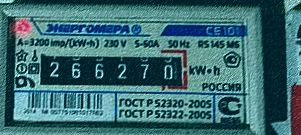0: (159, 61, 171, 78)
2: (44, 57, 57, 76), (113, 59, 124, 78)
6: (67, 59, 79, 77), (90, 60, 102, 78)
7: (136, 60, 147, 78)
screen: (27, 42, 191, 93)
